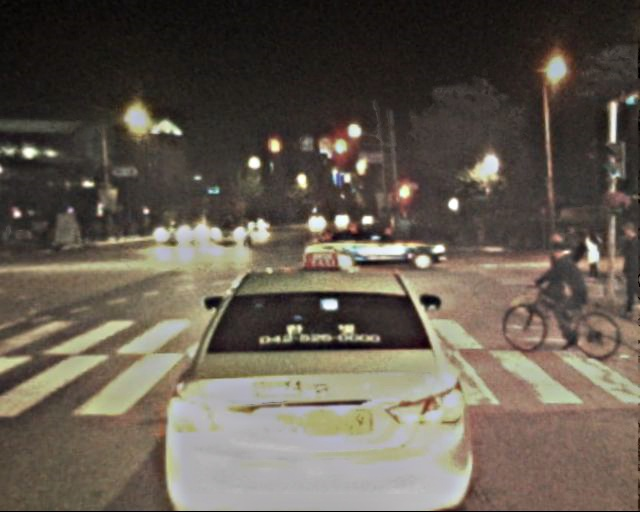person: (546, 244, 588, 346), (611, 221, 640, 311), (541, 233, 572, 309), (582, 226, 605, 283), (409, 216, 437, 246), (6, 213, 28, 246)
